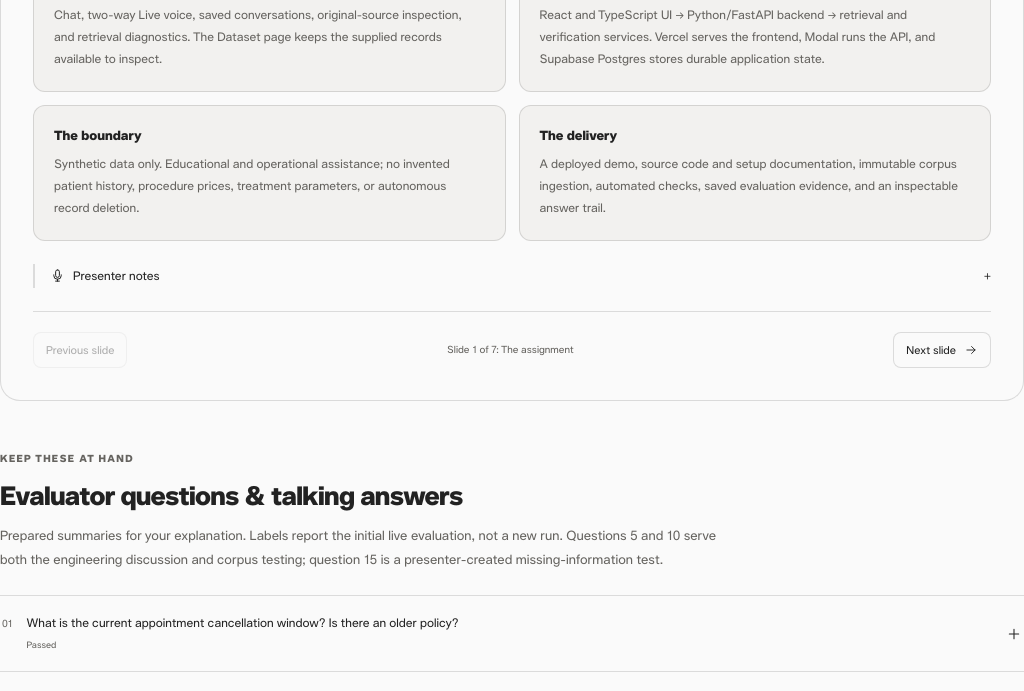
Test: engineering presentation › supports topic selection and bounded previous/next navigation
This screenshot has width=1024, height=691.
(page scrolled)
Check: the button "Previous slide" is disabled, box [33,332,128,368]
What coordinates should you click on to do the following:
click the button "Next slide"
I would click on:
 (942, 350)
Its box is [893,332,991,368].
(page scrolled)
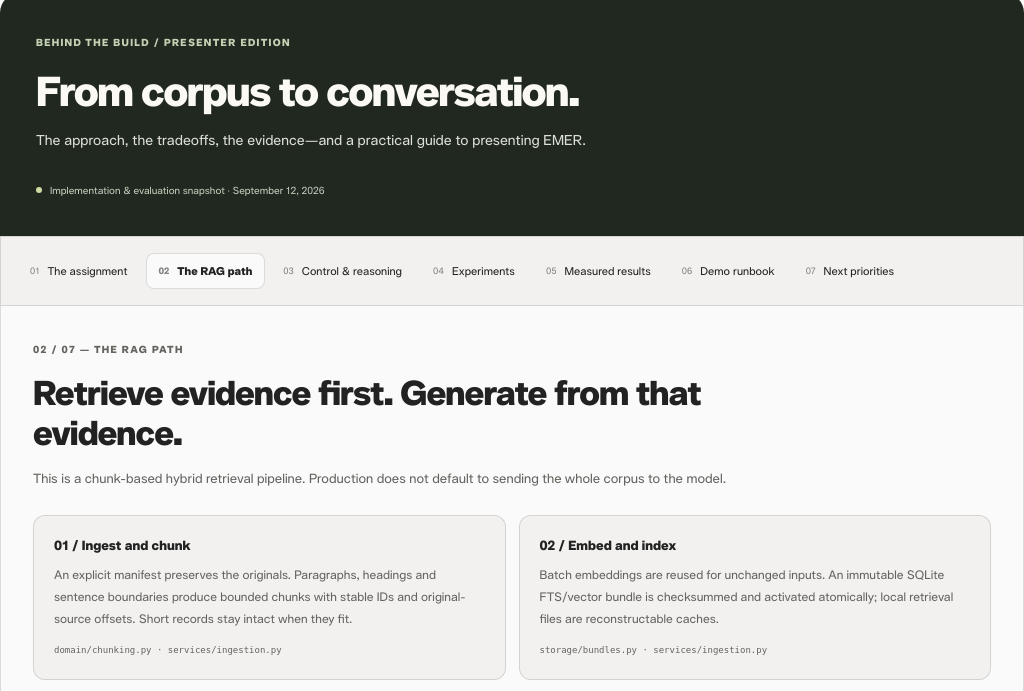
Check: the heading "Retrieve evidence first. Generate from that evidence." is shown, box [33,373,723,454]
What coordinates should you click on to do the following:
click the button "07 Next priorities"
I would click on:
 (850, 271)
Its box is [793,253,907,289].
(page scrolled)
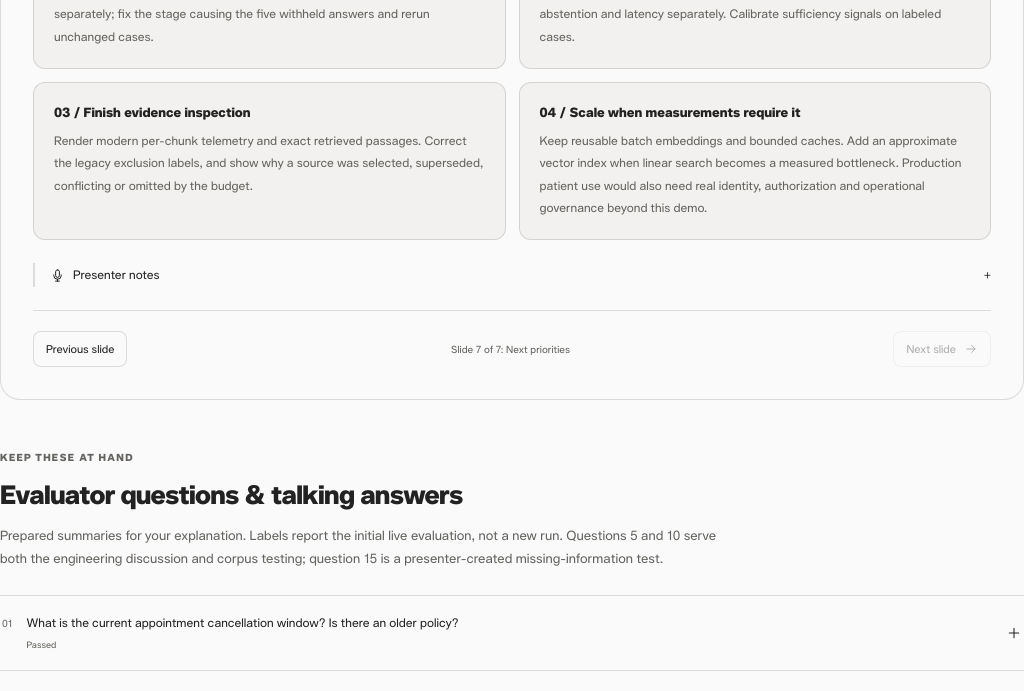
Check: the button "Next slide" is disabled, box [893,331,991,367]
What coordinates should you click on to do the following:
click the button "Previous slide"
I would click on:
 (80, 349)
Its box is [33,331,128,367].
(page scrolled)
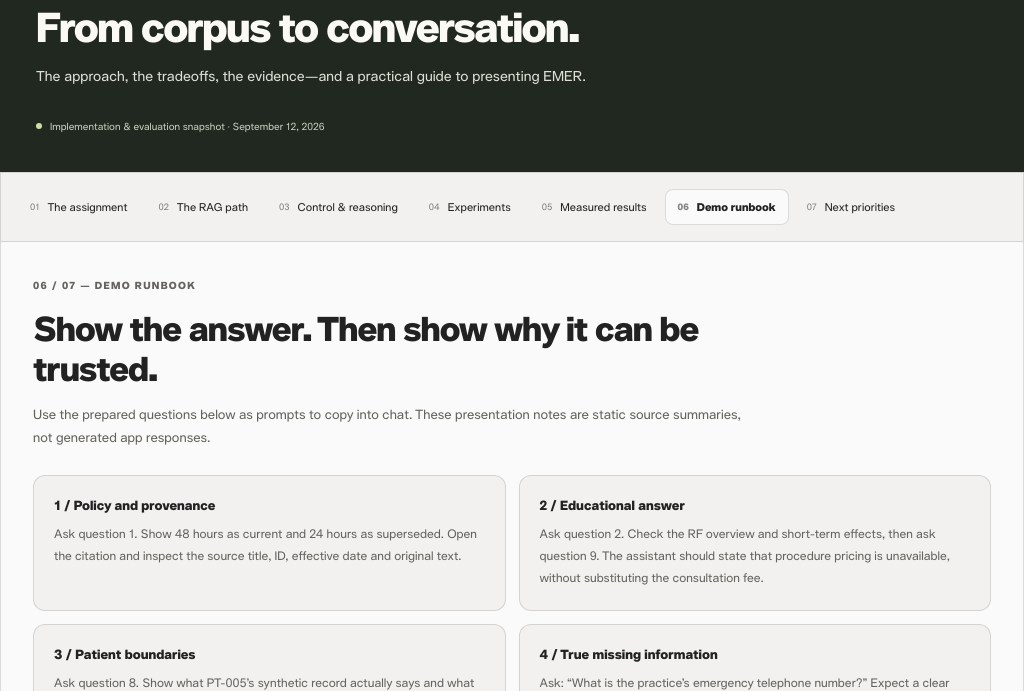
Check: the heading "Show the answer. Then show why it can be trusted." is shown, box [33,309,723,390]
